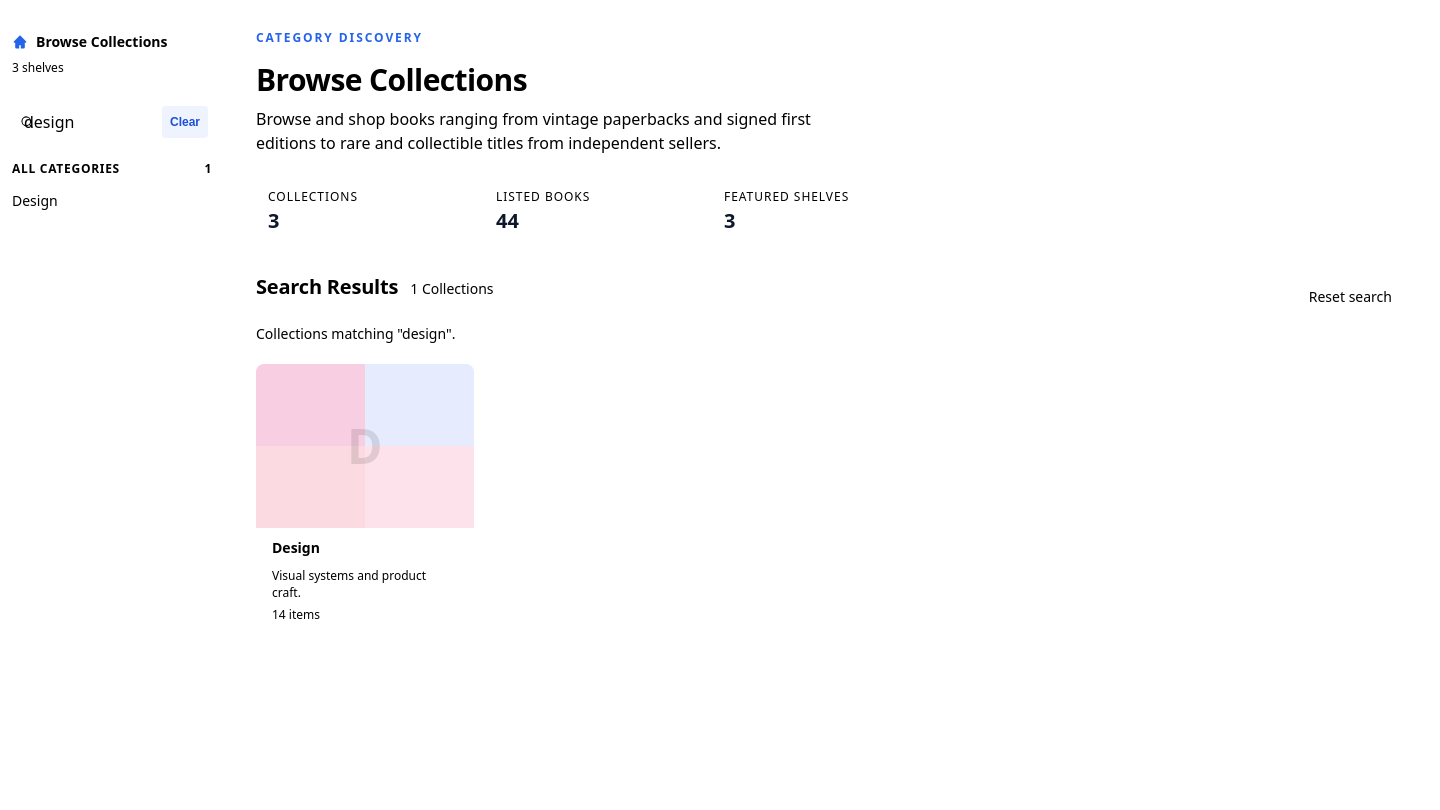
Test case: CategoriesComponent › filters the main collection grid and can reset the search
Expected: the number of links with class "collection-card" is 1, [256,364,474,637]
Expected: the text "Business" is not shown
Click the button with class "btn-view-all" at (1350, 297), box [1293,275,1408,319]
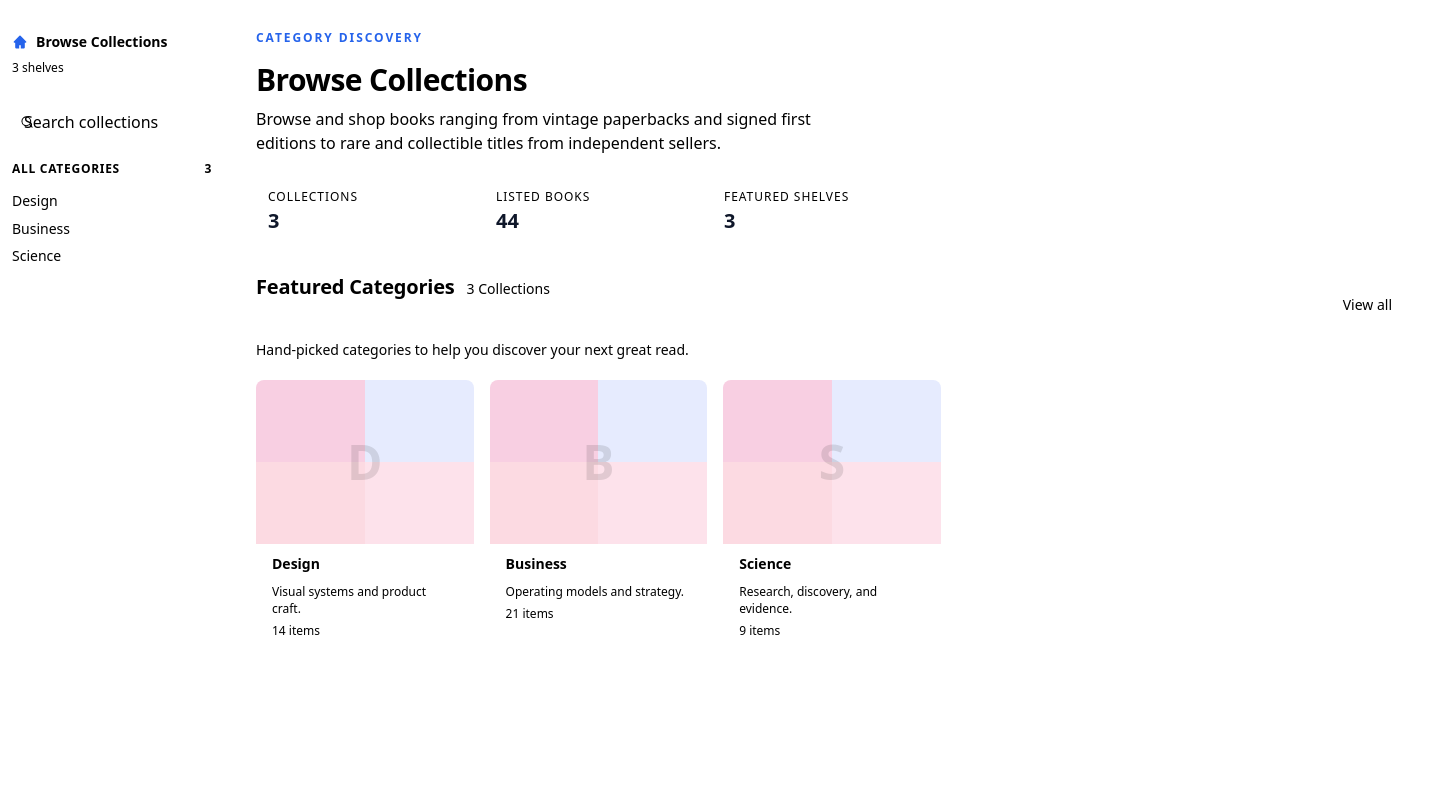
Expected: the text "Featured Categories" is shown, [256,275,455,299]
